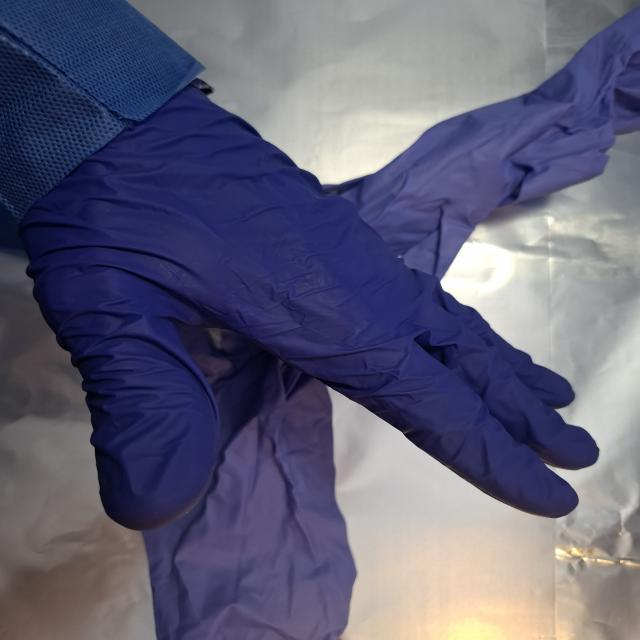glove_on: (17, 85, 604, 532)
